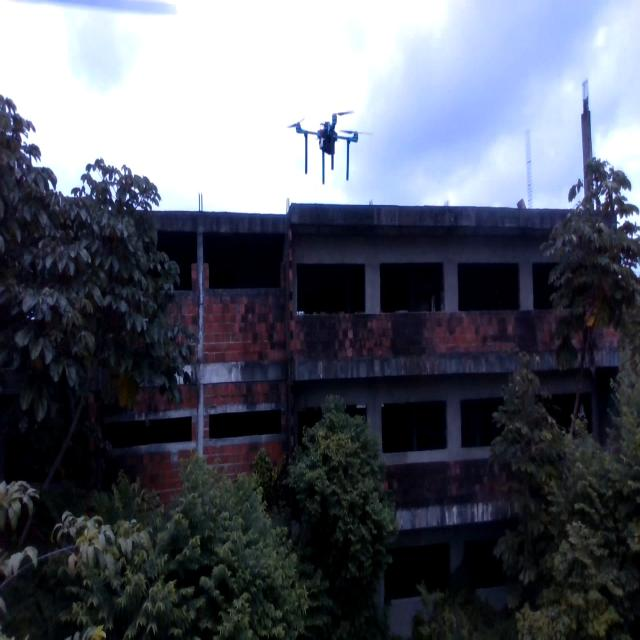-uav-: (284, 104, 368, 192)
